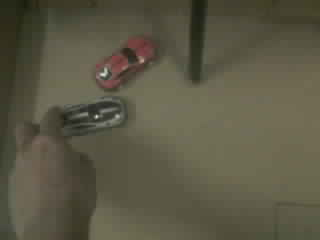Car: (95, 38, 154, 89), (62, 96, 126, 136)
